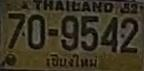0: (27, 13, 44, 48)
2: (120, 16, 137, 52)
4: (100, 16, 117, 51)
5: (80, 15, 98, 50)
7: (7, 12, 24, 48)
9: (60, 15, 78, 50)
CMI: (42, 52, 100, 70)
